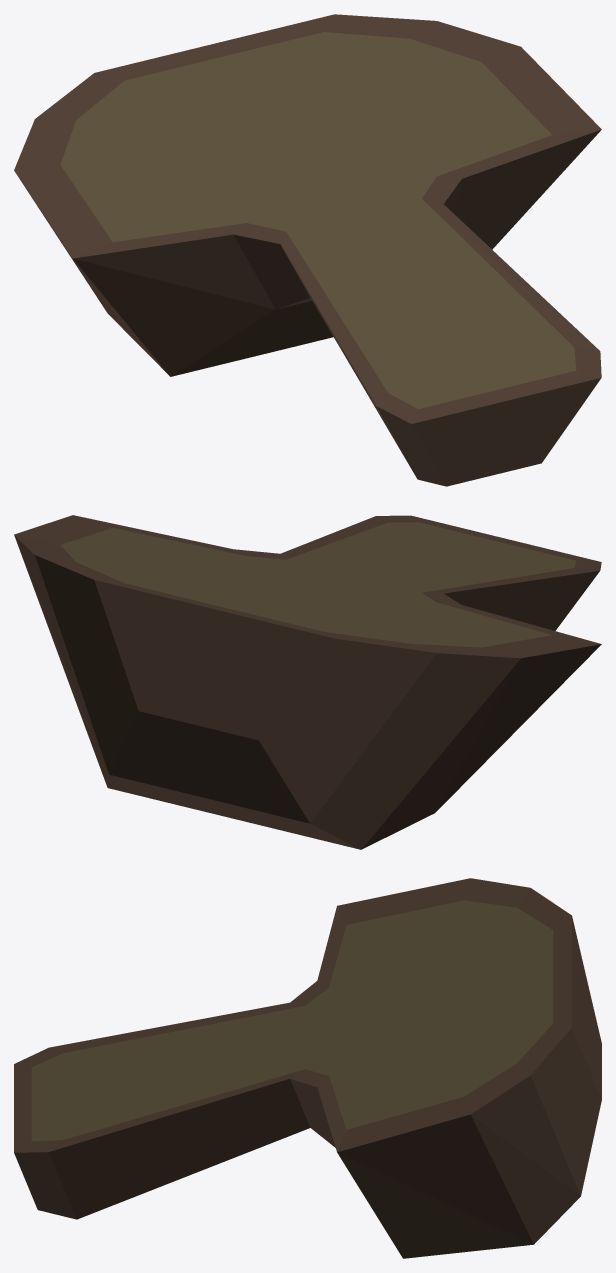
File: mushroom.glb
The picture shows the model from 3 angles, top to bottom: view 1: azimuth 30°, elevation 25°; view 2: azimuth 150°, elevation 25°; view 3: azimuth 270°, elevation 25°; orthographic projection. The views are drawn at different scales.
Parts seen in each view (by area): view 1: Mushroom_Slice; view 2: Mushroom_Slice; view 3: Mushroom_Slice.
Boxes of the visible parts, x1,y1,x2,y2 form: Mushroom_Slice: (14, 14, 601, 486); Mushroom_Slice: (14, 515, 601, 849); Mushroom_Slice: (14, 878, 601, 1258).
Bounding box in the file's own units: 41.34 × 17.65 × 41.66.
